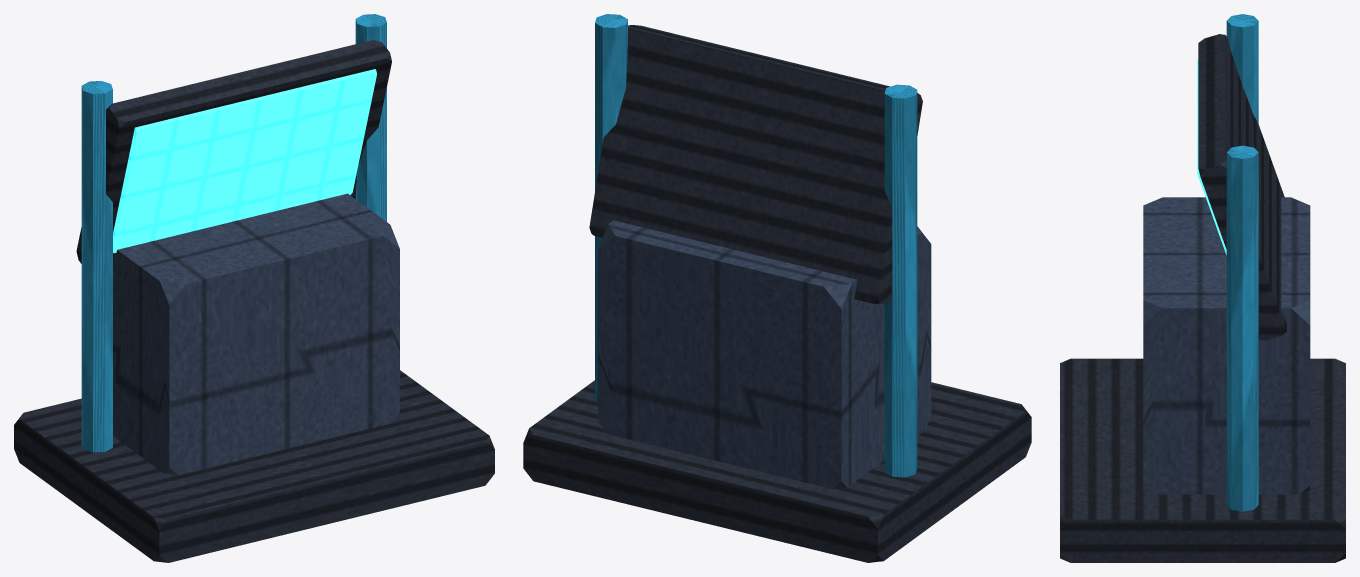
File: hangar_terminal_station.glb
3 views of the same model, side by side, from view 1: azimuth 30°, elevation 25°; view 2: azimuth 150°, elevation 25°; view 3: azimuth 270°, elevation 25° (orthographic). The views are drawn at different scales.
Visible parts, largest first — view 1: hangar_terminal_station; view 2: hangar_terminal_station; view 3: hangar_terminal_station.
Boxes of the visible parts, x1,y1,x2,y2 form: hangar_terminal_station: (14,14,494,562); hangar_terminal_station: (523,14,1031,562); hangar_terminal_station: (1060,14,1345,562).
Bounding box in the file's own units: 2.4 × 2.75 × 1.8.
1 material, 1 textured.
